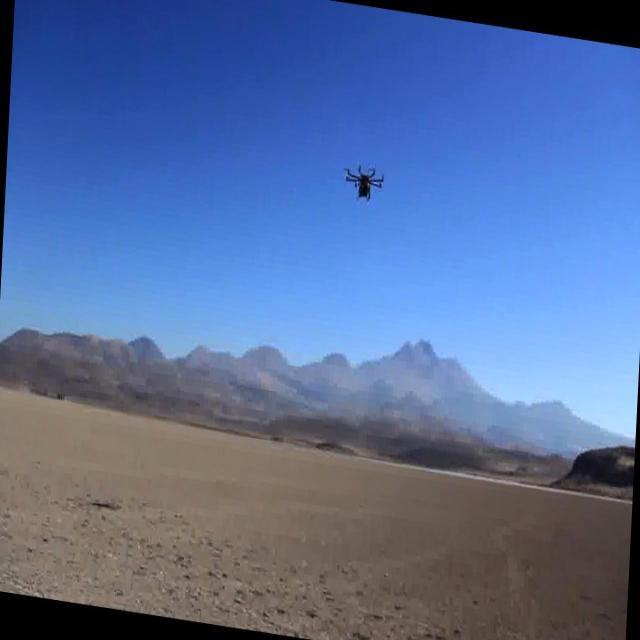drone: (342, 157, 388, 208)
